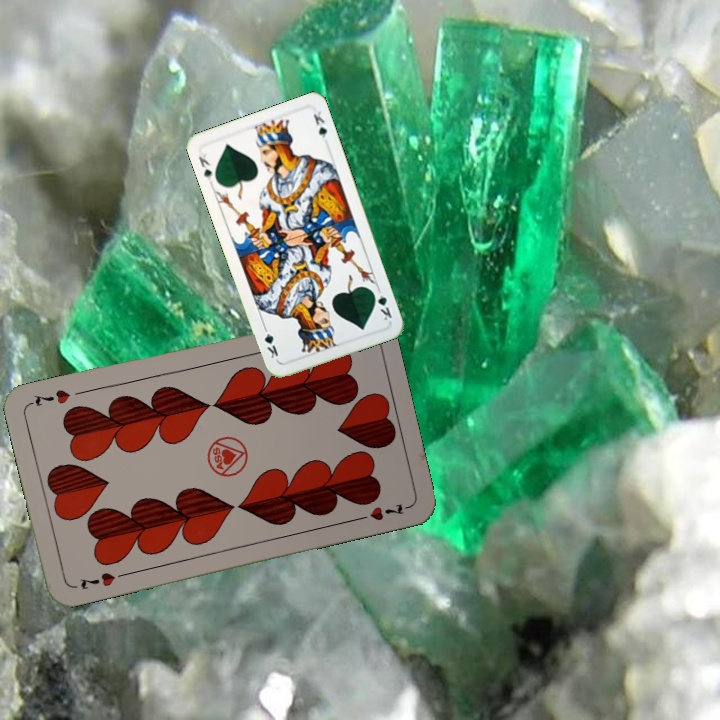GK: (368, 284, 395, 323), (194, 149, 215, 183)
H7: (76, 568, 129, 592)
